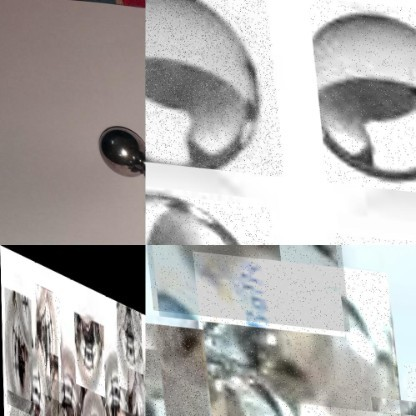ironball: (187, 247, 397, 415), (145, 0, 280, 172), (307, 0, 415, 190), (145, 245, 344, 324), (145, 313, 294, 415), (145, 185, 278, 245), (4, 286, 32, 413), (35, 280, 61, 396), (96, 123, 146, 183), (73, 303, 104, 387), (115, 289, 142, 383), (288, 397, 415, 415), (128, 345, 145, 415), (398, 354, 415, 415), (43, 369, 64, 415), (3, 388, 36, 415), (112, 393, 142, 415)
